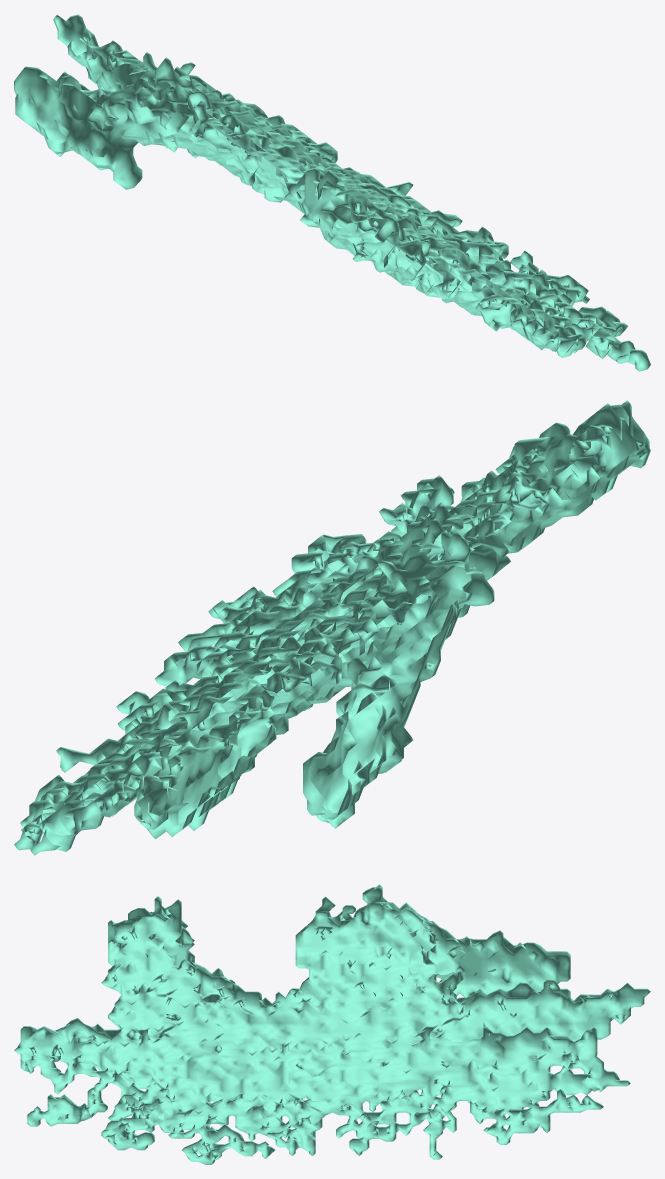
Rendered from osteocyte_14.glb.
The picture shows the model from 3 angles, top to bottom: view 1: azimuth 30°, elevation 25°; view 2: azimuth 150°, elevation 25°; view 3: azimuth 270°, elevation 25°; orthographic projection. The views are drawn at different scales.
Visible parts, largest first — view 1: osteocyte_14; view 2: osteocyte_14; view 3: osteocyte_14.
Part boxes in pixels (x1,y1,x2,y2): osteocyte_14: (14, 14, 650, 371); osteocyte_14: (14, 400, 650, 855); osteocyte_14: (14, 884, 650, 1164).
Size of the model in its own units: 21.18 by 13.96 by 45.74.
